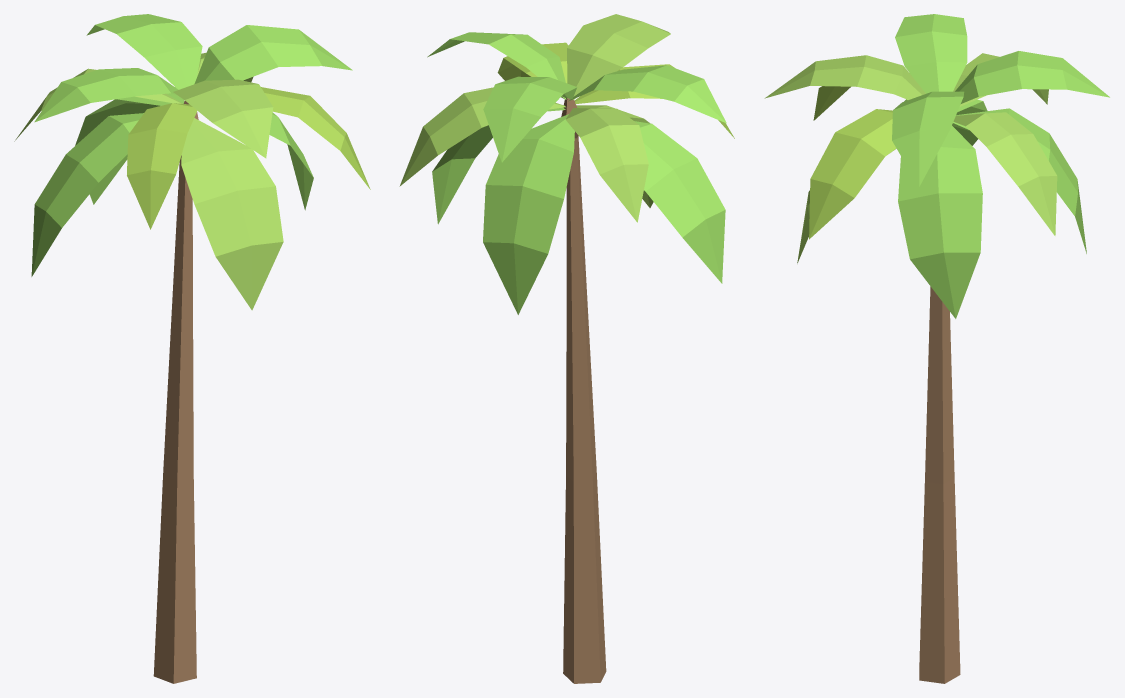
Rendered from Palm_Tree_l_01_LOD.fbx.
The picture shows the model from 3 angles, left to right: view 1: azimuth 30°, elevation 25°; view 2: azimuth 150°, elevation 25°; view 3: azimuth 270°, elevation 25°; orthographic projection.
Parts seen in each view (by area): view 1: Palm_Tree_l_01_LOD0; view 2: Palm_Tree_l_01_LOD0; view 3: Palm_Tree_l_01_LOD0.
Part boxes in pixels (x1,y1,x2,y2): Palm_Tree_l_01_LOD0: (14, 14, 370, 683); Palm_Tree_l_01_LOD0: (399, 14, 734, 683); Palm_Tree_l_01_LOD0: (764, 14, 1109, 683).
Size of what is drawn, in the model's own units: 430 by 823 by 417.
